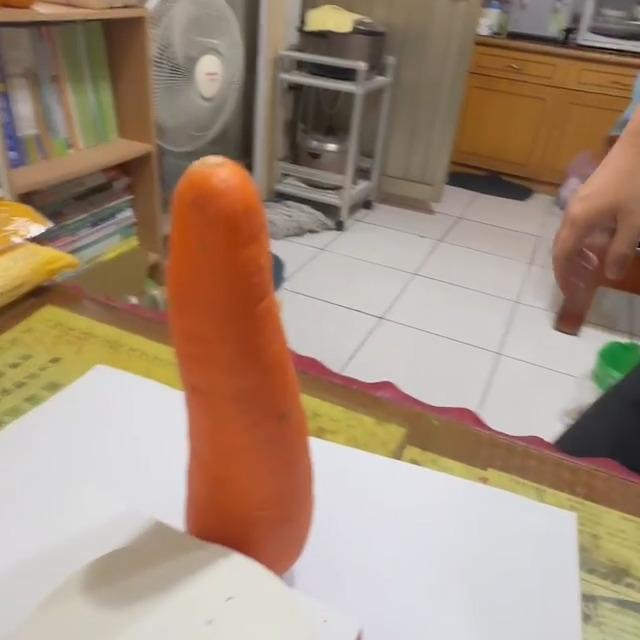carrot: (164, 156, 318, 582)
